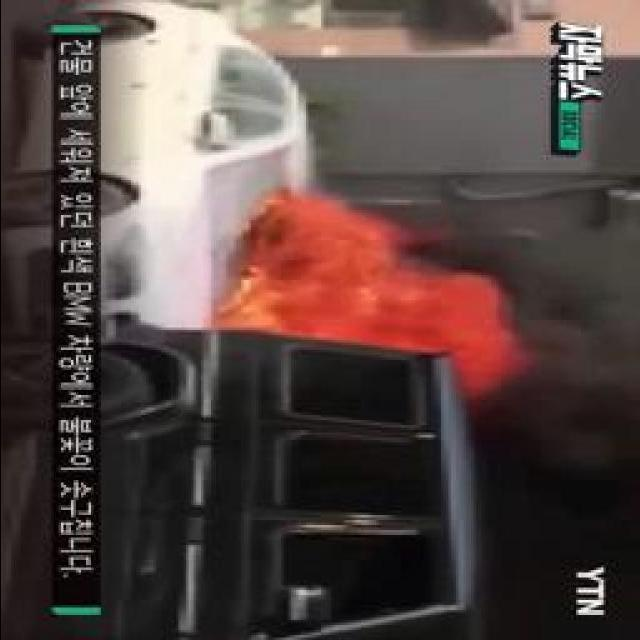Fire: (227, 218, 508, 398)
